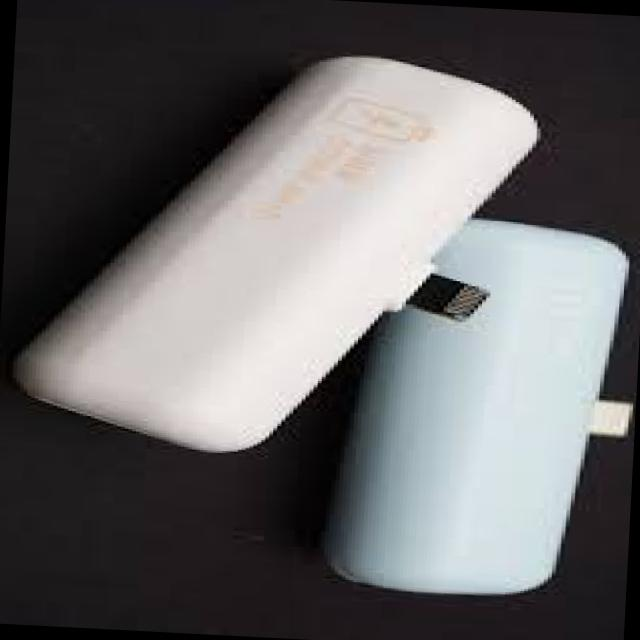power_bank: (12, 39, 554, 472), (323, 204, 640, 606)
